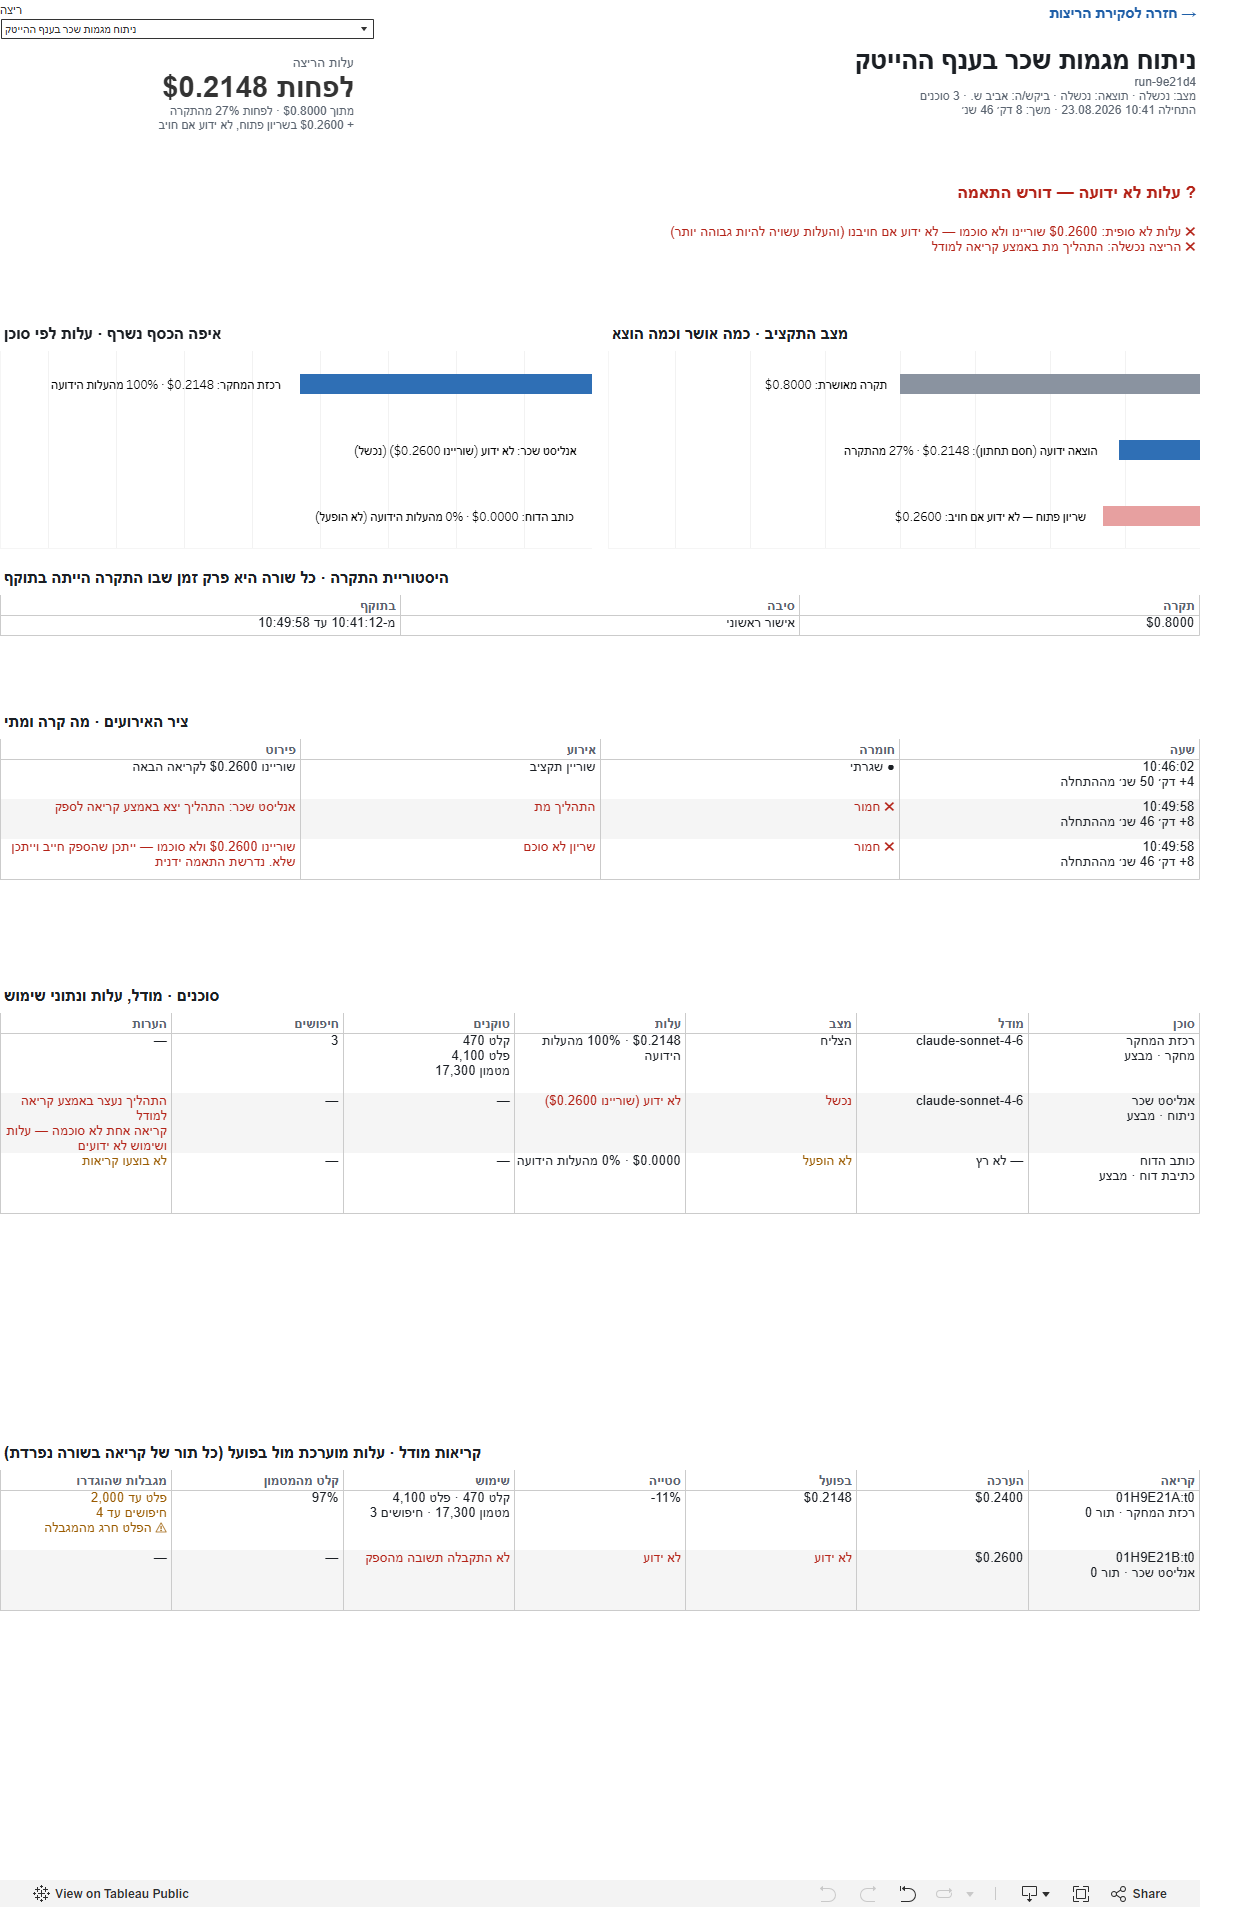

The page's visual inventory and layout, read from the dashboard file:
{"tool":"tableau","page":{"name":"פרטי ריצה","canvas":[1200,1880],"ordinal":1},"visuals":[{"type":"parameter","param":"[Parameters].[pRun]","box":[24,6,480,52]},{"type":"worksheet","title":"חזרה","mark":"Text","box":[876,10,300,34]},{"type":"worksheet","title":"כותרת ריצה","mark":"Text","box":[384,50,792,134]},{"type":"worksheet","title":"עלות הריצה","mark":"Text","box":[24,60,344,248]},{"type":"worksheet","title":"פסק הדין","mark":"Text","box":[384,186,792,40]},{"type":"worksheet","title":"סיבות","mark":"Text","box":[384,228,792,84]},{"type":"worksheet","title":"עלות לפי סוכן","mark":"Bar","rows":["node_order"],"cols":["cost_micro_usd"],"box":[24,320,568,230]},{"type":"worksheet","title":"מצב התקציב","mark":"Bar","rows":["bar_order"],"cols":["value_micro_usd"],"box":[608,320,568,230]},{"type":"worksheet","title":"היסטוריית התקרה","mark":"Text","rows":["row_order"],"cols":["col_pos","col_header"],"box":[24,562,1152,130]},{"type":"worksheet","title":"ציר אירועים","mark":"Text","rows":["row_order"],"cols":["col_pos","col_header"],"box":[24,704,1152,260]},{"type":"worksheet","title":"סוכנים","mark":"Text","rows":["row_order"],"cols":["col_pos","col_header"],"box":[24,976,1152,440]},{"type":"worksheet","title":"קריאות מודל","mark":"Text","rows":["row_order"],"cols":["col_pos","col_header"],"box":[24,1428,1152,440]}]}

Visuals, with their boxes on the page's 1200x1880 design canvas (x1, y1, x2, y2). These are canvas units, not pixel positions in the 1240x1920 screenshot, which may show the page scaled, cropped or inside an application window:
parameter: {"left": 24, "top": 6, "right": 504, "bottom": 58}
"חזרה" worksheet (Text marks): {"left": 876, "top": 10, "right": 1176, "bottom": 44}
"כותרת ריצה" worksheet (Text marks): {"left": 384, "top": 50, "right": 1176, "bottom": 184}
"עלות הריצה" worksheet (Text marks): {"left": 24, "top": 60, "right": 368, "bottom": 308}
"פסק הדין" worksheet (Text marks): {"left": 384, "top": 186, "right": 1176, "bottom": 226}
"סיבות" worksheet (Text marks): {"left": 384, "top": 228, "right": 1176, "bottom": 312}
"עלות לפי סוכן" worksheet (Bar marks): {"left": 24, "top": 320, "right": 592, "bottom": 550}
"מצב התקציב" worksheet (Bar marks): {"left": 608, "top": 320, "right": 1176, "bottom": 550}
"היסטוריית התקרה" worksheet (Text marks): {"left": 24, "top": 562, "right": 1176, "bottom": 692}
"ציר אירועים" worksheet (Text marks): {"left": 24, "top": 704, "right": 1176, "bottom": 964}
"סוכנים" worksheet (Text marks): {"left": 24, "top": 976, "right": 1176, "bottom": 1416}
"קריאות מודל" worksheet (Text marks): {"left": 24, "top": 1428, "right": 1176, "bottom": 1868}
